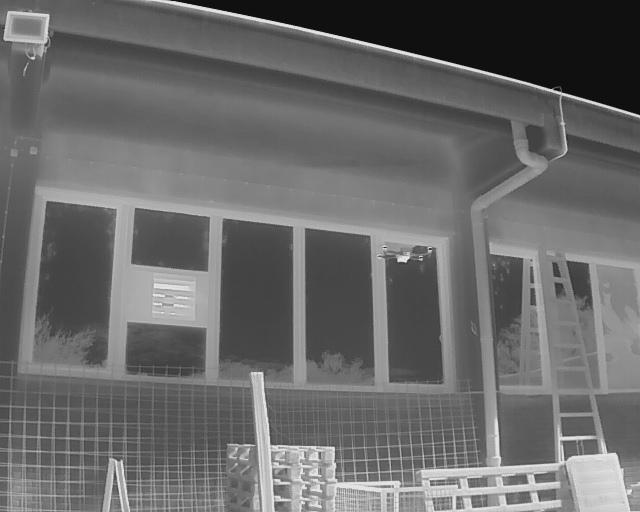drone: (368, 231, 444, 282)
